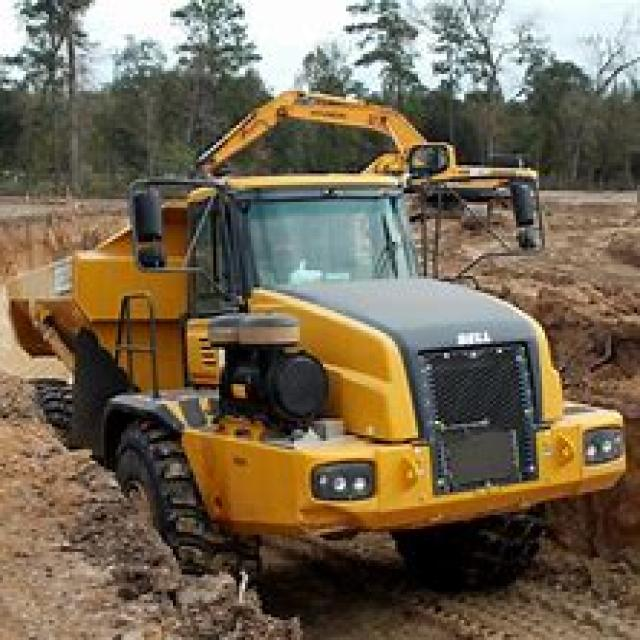dump_truck: (29, 160, 620, 580)
